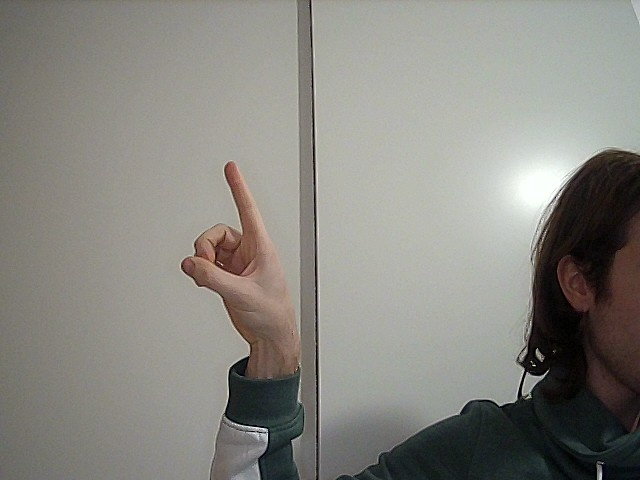d: (155, 154, 325, 371)
